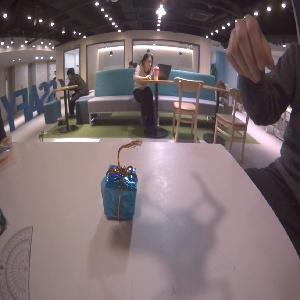box: (102, 162, 139, 223)
